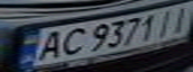1: (136, 11, 163, 40)
3: (106, 18, 130, 50)
7: (124, 15, 145, 45)
9: (87, 20, 112, 53)
A: (30, 29, 69, 62)
C: (54, 25, 90, 57)
I: (154, 7, 184, 36), (166, 2, 193, 34)
